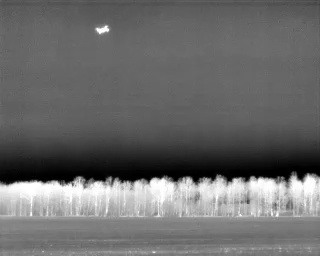DRONE: (92, 21, 114, 40)
